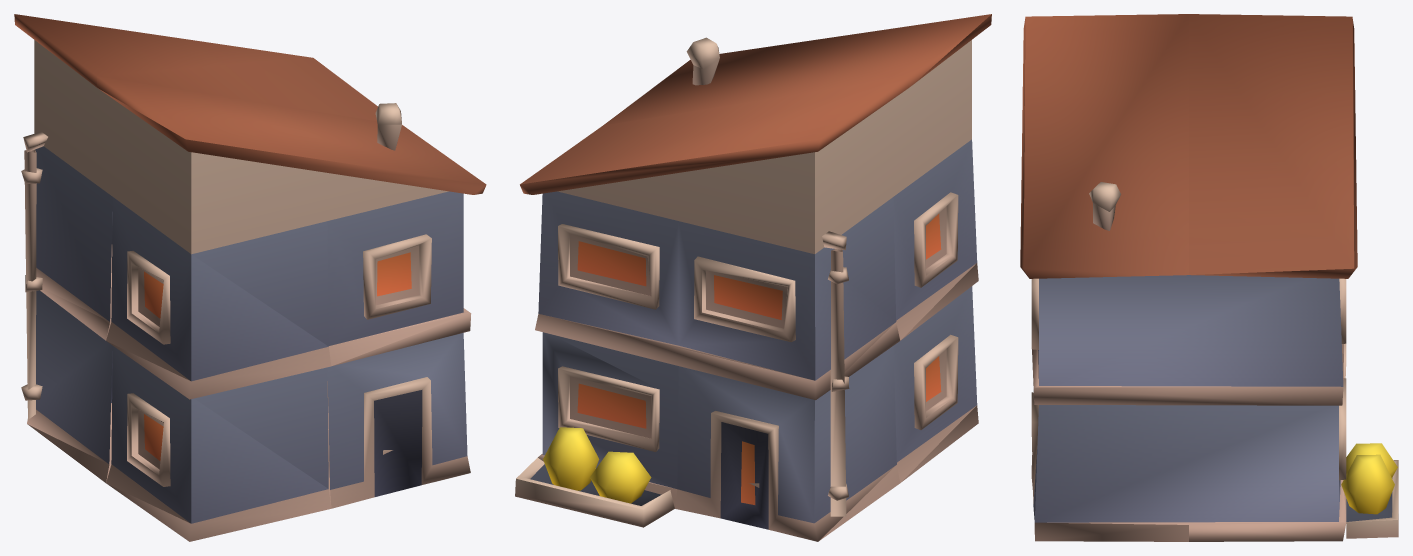
File: casa_k.fbx
3 views of the same model, side by side, from view 1: azimuth 30°, elevation 25°; view 2: azimuth 150°, elevation 25°; view 3: azimuth 270°, elevation 25° (orthographic). The views are drawn at different scales.
Parts seen in each view (by area): view 1: casa_k; view 2: casa_k; view 3: casa_k.
Part boxes in pixels (x1,y1,x2,y2): casa_k: (14, 14, 486, 541); casa_k: (515, 14, 991, 541); casa_k: (1020, 14, 1398, 541).
Bounding box in the file's own units: 0.9173 × 1.15 × 1.01.
